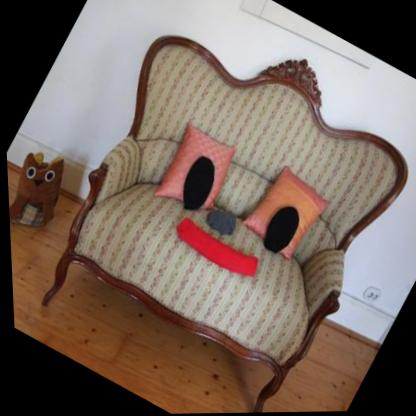Sofa: (2, 0, 416, 416)
